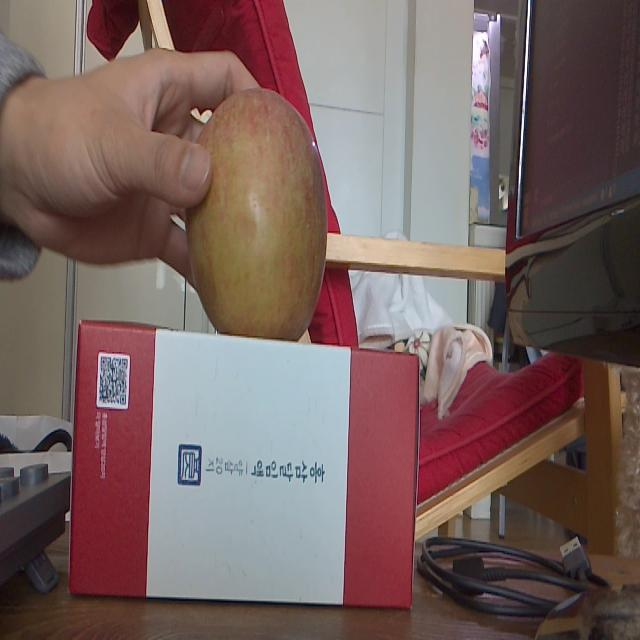apple: (185, 87, 328, 340)
